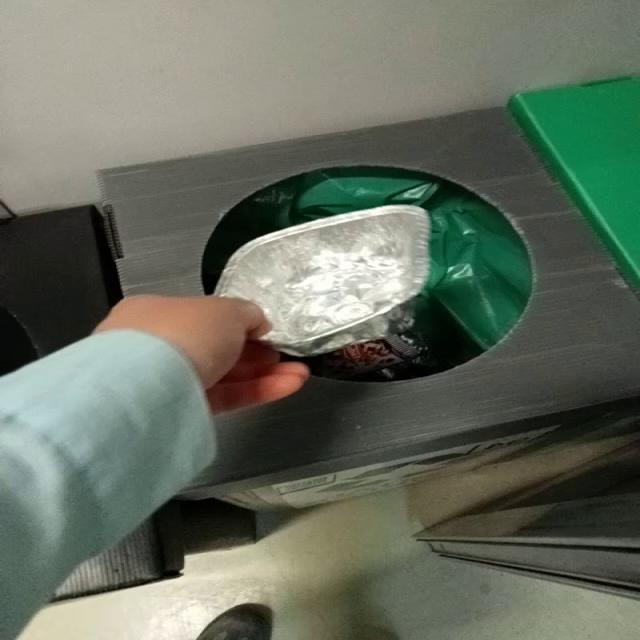Bin: (99, 108, 637, 504)
Metal: (215, 205, 431, 356)
